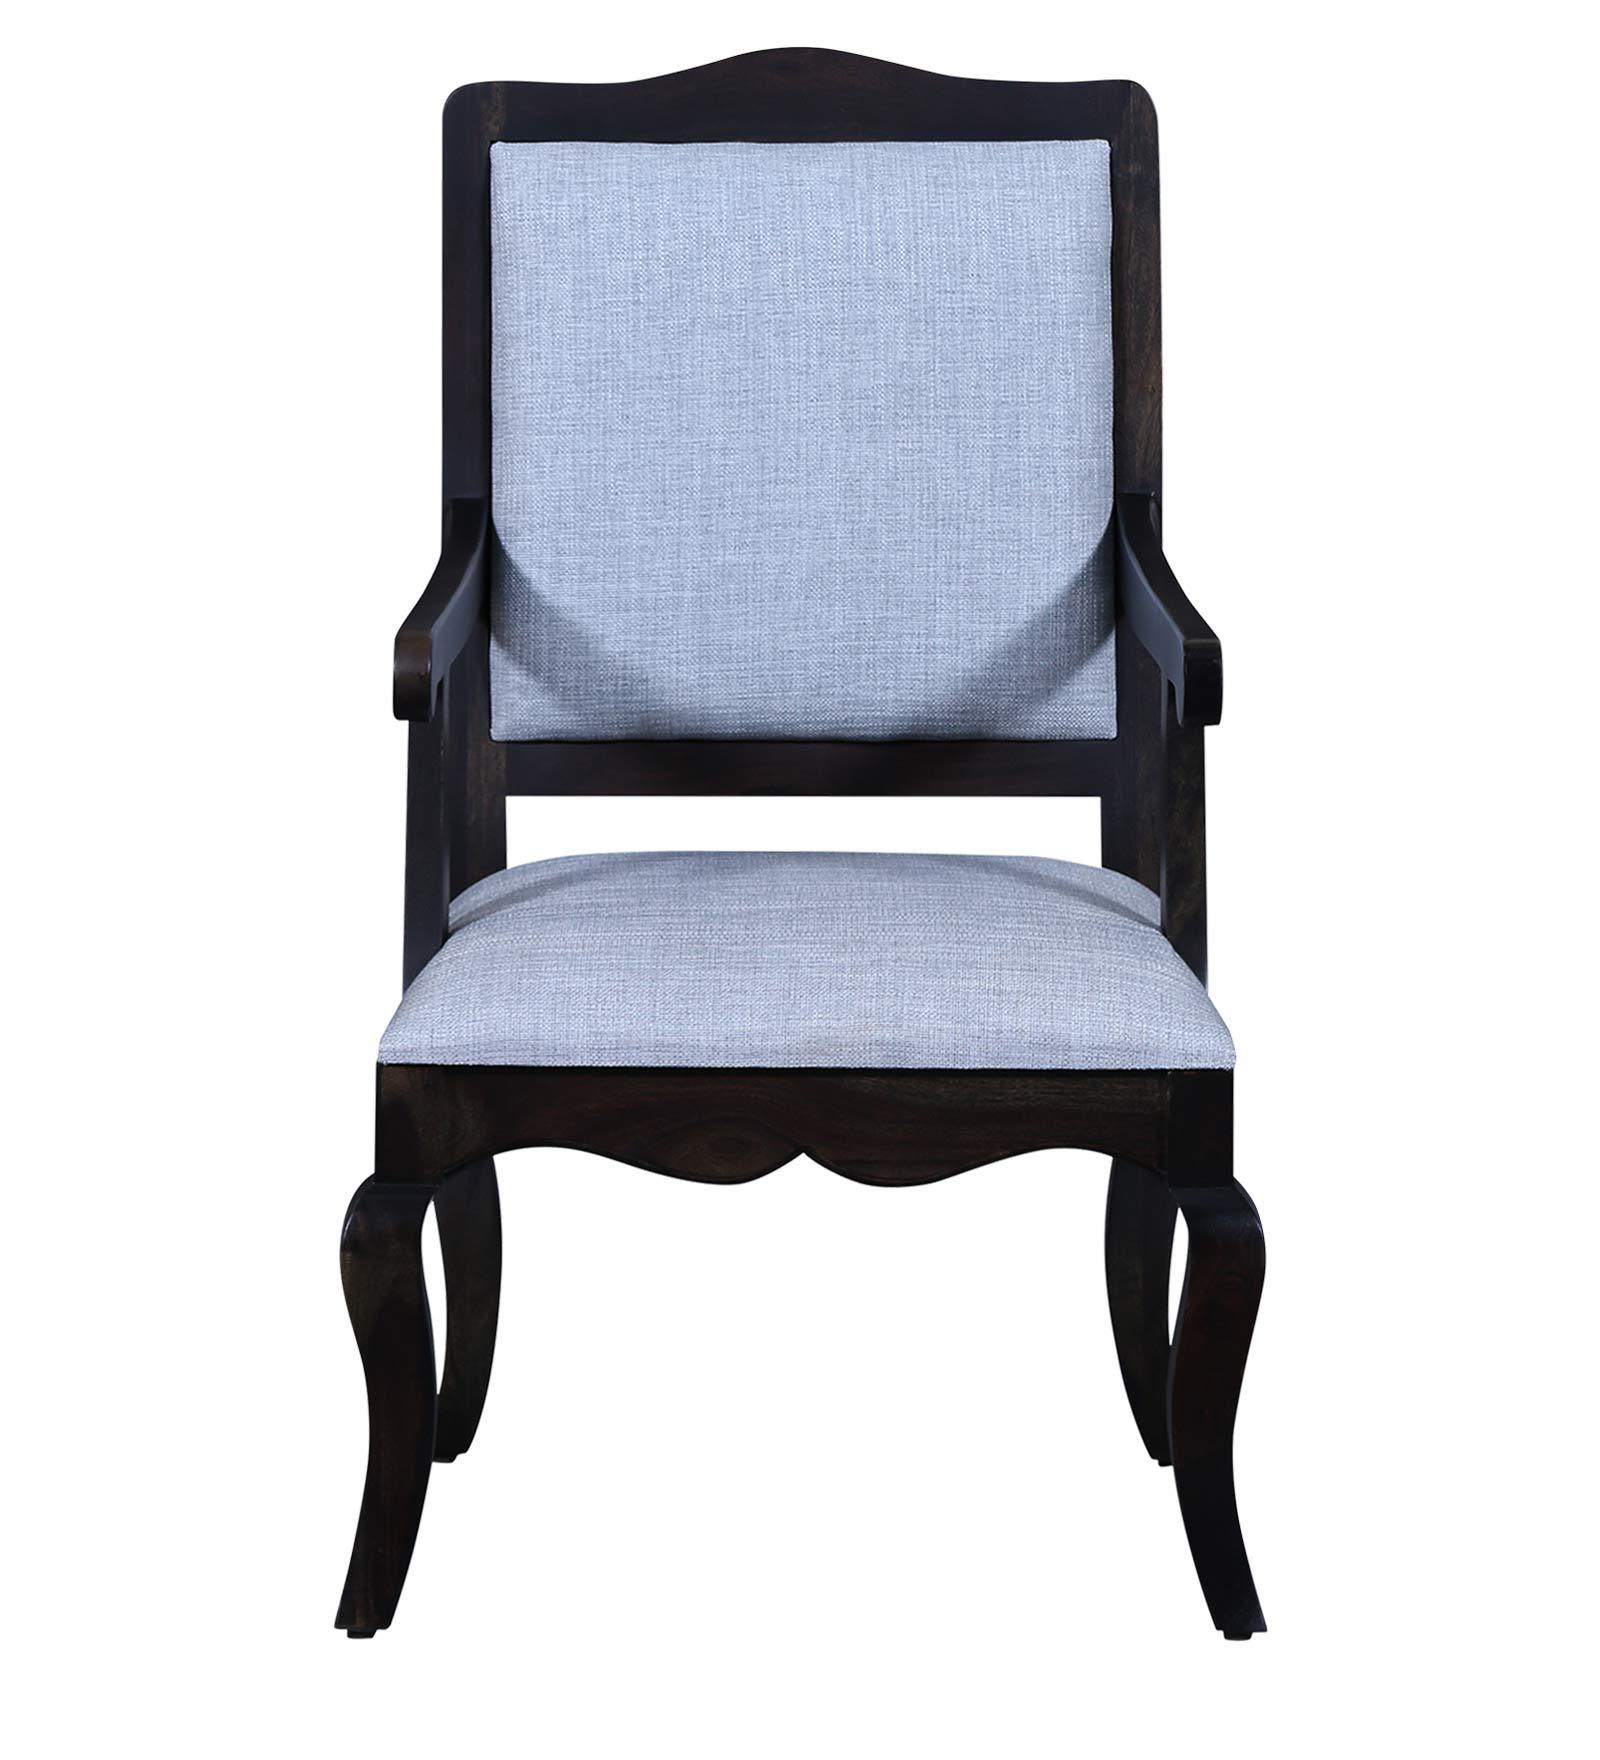Anne Arm Chair in Warm Chestnut Finish by Amberville: (363, 38, 1281, 1682)
